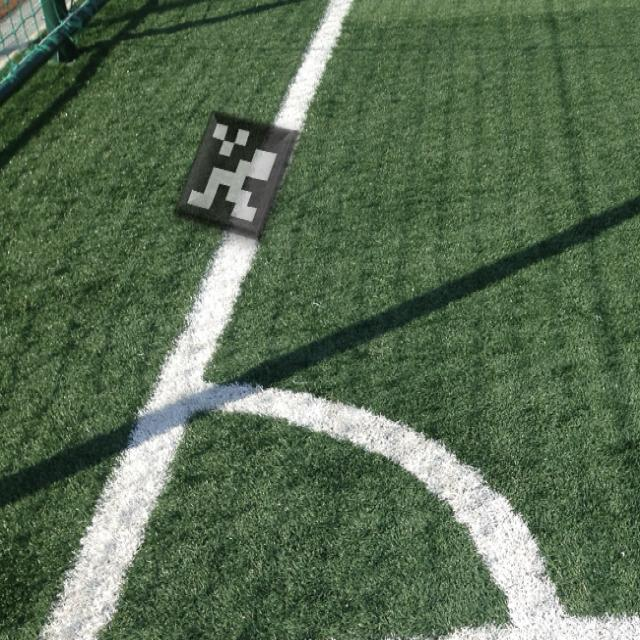marker: (169, 100, 306, 251)
